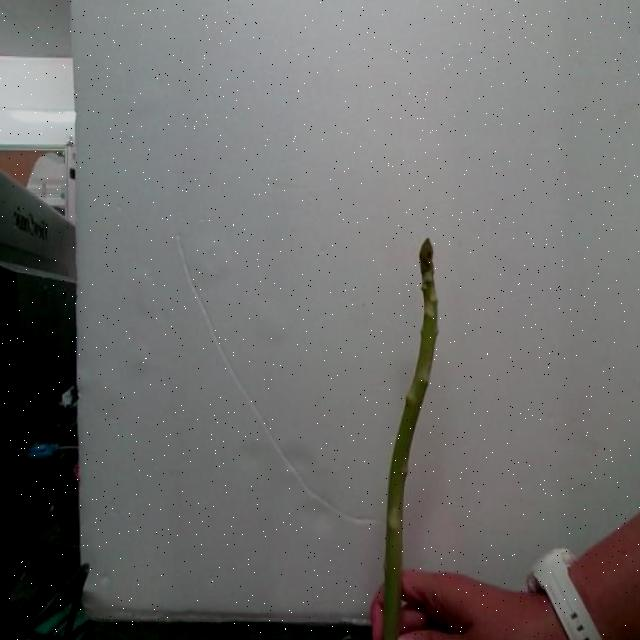aspargus: (380, 241, 437, 640)
